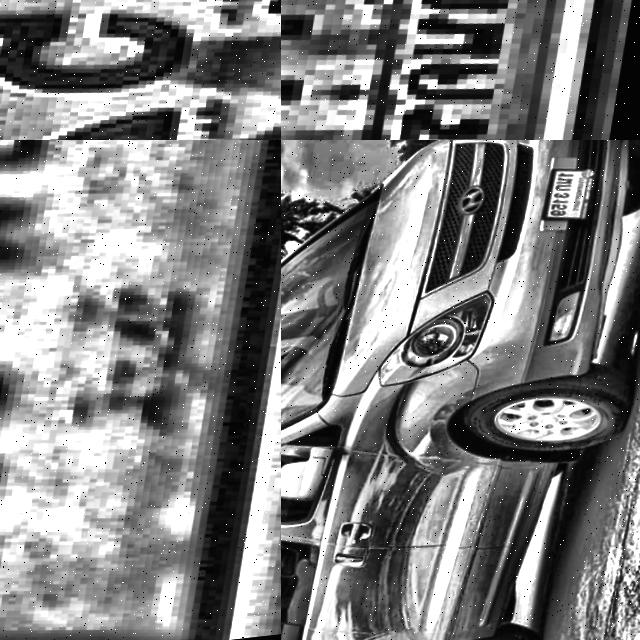license-plate: (0, 140, 281, 640), (281, 0, 640, 140), (0, 0, 281, 140), (540, 173, 599, 240)
